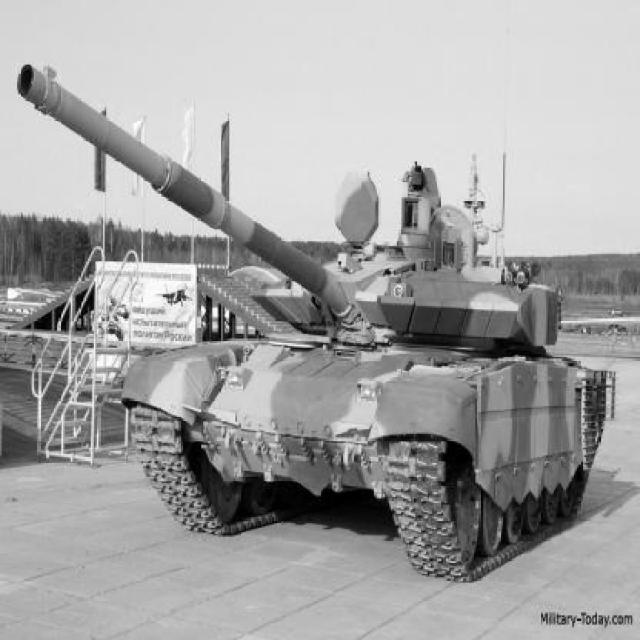Tank: (17, 63, 623, 584)
